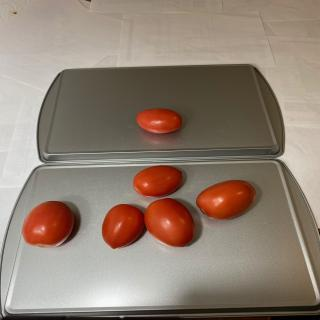Tomato: (144, 198, 195, 247), (22, 200, 74, 248), (196, 180, 256, 220), (102, 204, 144, 249), (133, 165, 182, 198), (136, 108, 182, 134)
